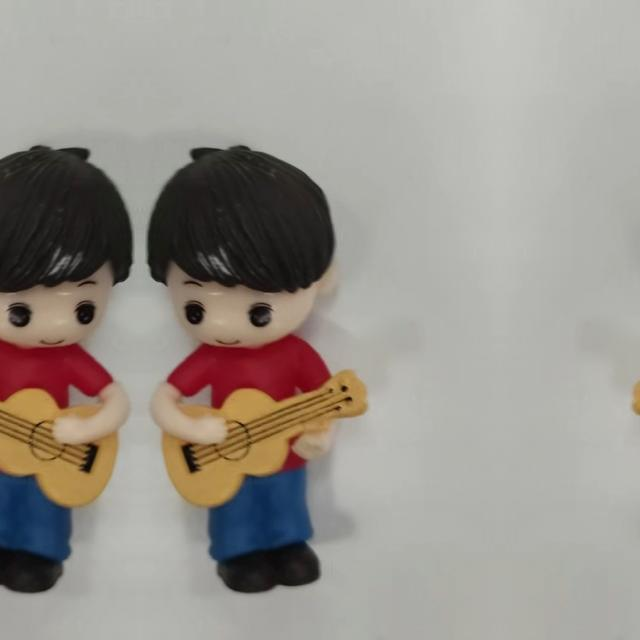man cloth: (168, 344, 350, 468), (0, 344, 112, 468)
man head: (140, 139, 336, 351), (0, 139, 140, 351)
trousers: (197, 464, 349, 600), (0, 463, 83, 600)
